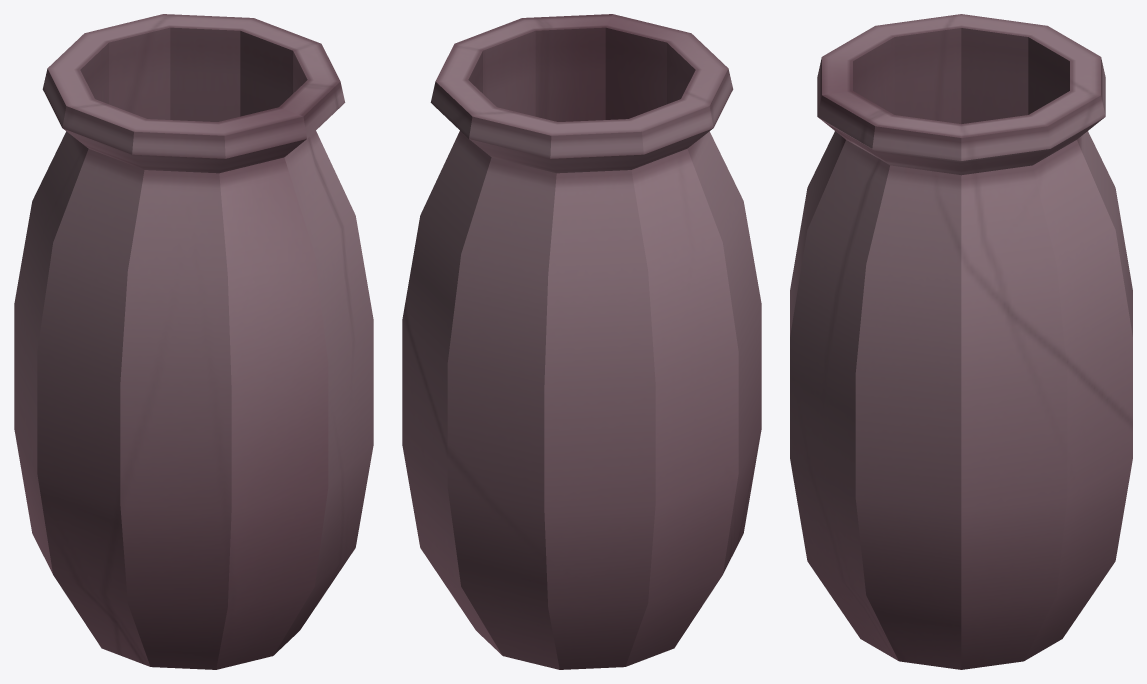
File: pot2.FBX
The picture shows the model from 3 angles, left to right: view 1: azimuth 30°, elevation 25°; view 2: azimuth 150°, elevation 25°; view 3: azimuth 270°, elevation 25°; orthographic projection.
Visible parts, largest first — view 1: Object001; view 2: Object001; view 3: Object001.
Part boxes in pixels (<box>): Object001: <box>14,14,373,669</box>; Object001: <box>402,14,761,669</box>; Object001: <box>790,14,1132,669</box>.
Bounding box in the file's own units: 0.8601 × 1.45 × 0.818.
